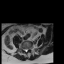CCS_normal: (25, 48, 27, 53)
LFS_stenosis: (28, 47, 29, 50)
LLS_normal: (27, 48, 28, 52)
RFS_normal: (23, 47, 24, 51)
RLS_normal: (24, 47, 25, 52)
